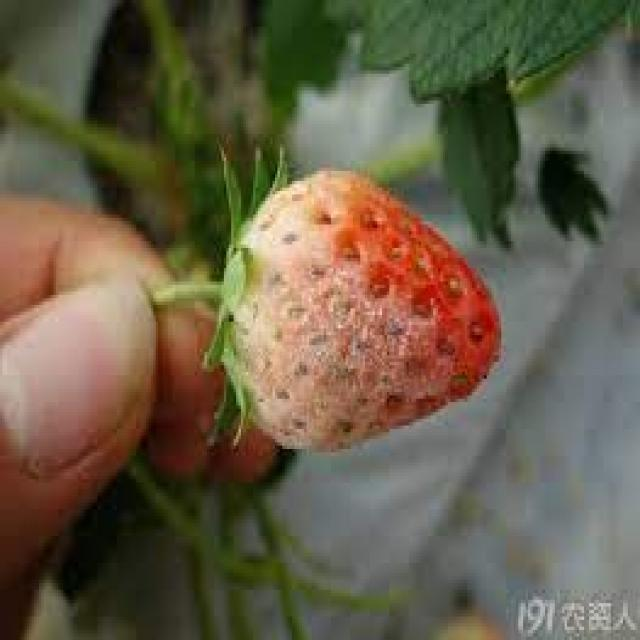Oído: (206, 171, 529, 464)
